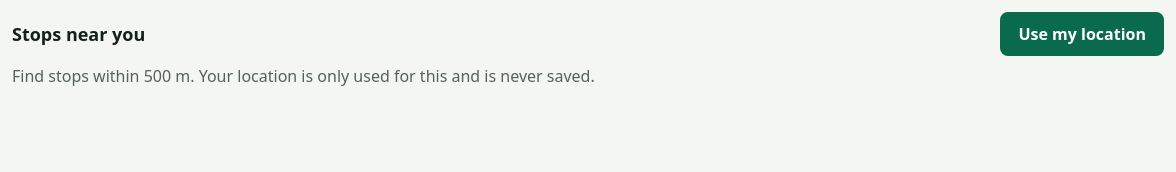
NearbyStops › shows progress and blocks a second tap while the browser finds the position
Click the button "Use my location". click: [1082, 34]
box: [1000,12,1164,56]
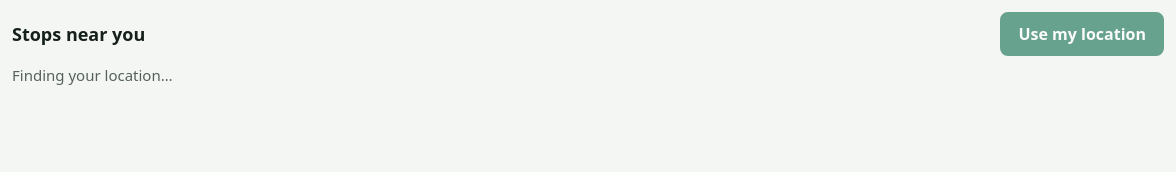
Expected: the message reads "Finding your location…", [12,65,173,85]
Expected: the button "Use my location" is disabled, [1000,12,1164,56]
